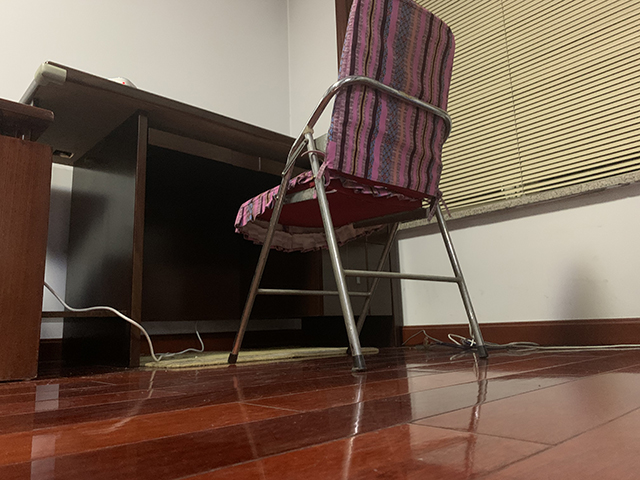carpet: (139, 346, 381, 370)
stool: (227, 1, 490, 374)
table: (21, 60, 405, 369)
wire: (43, 280, 205, 363), (403, 326, 640, 361)
